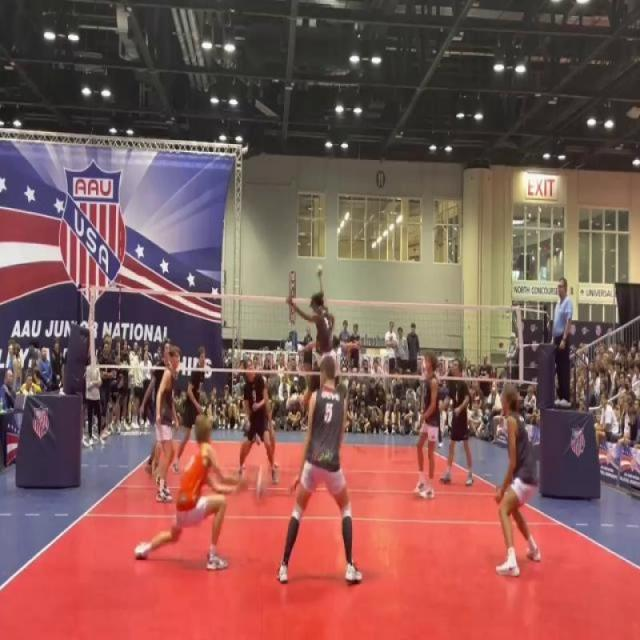volleyball: (252, 459, 270, 501)
